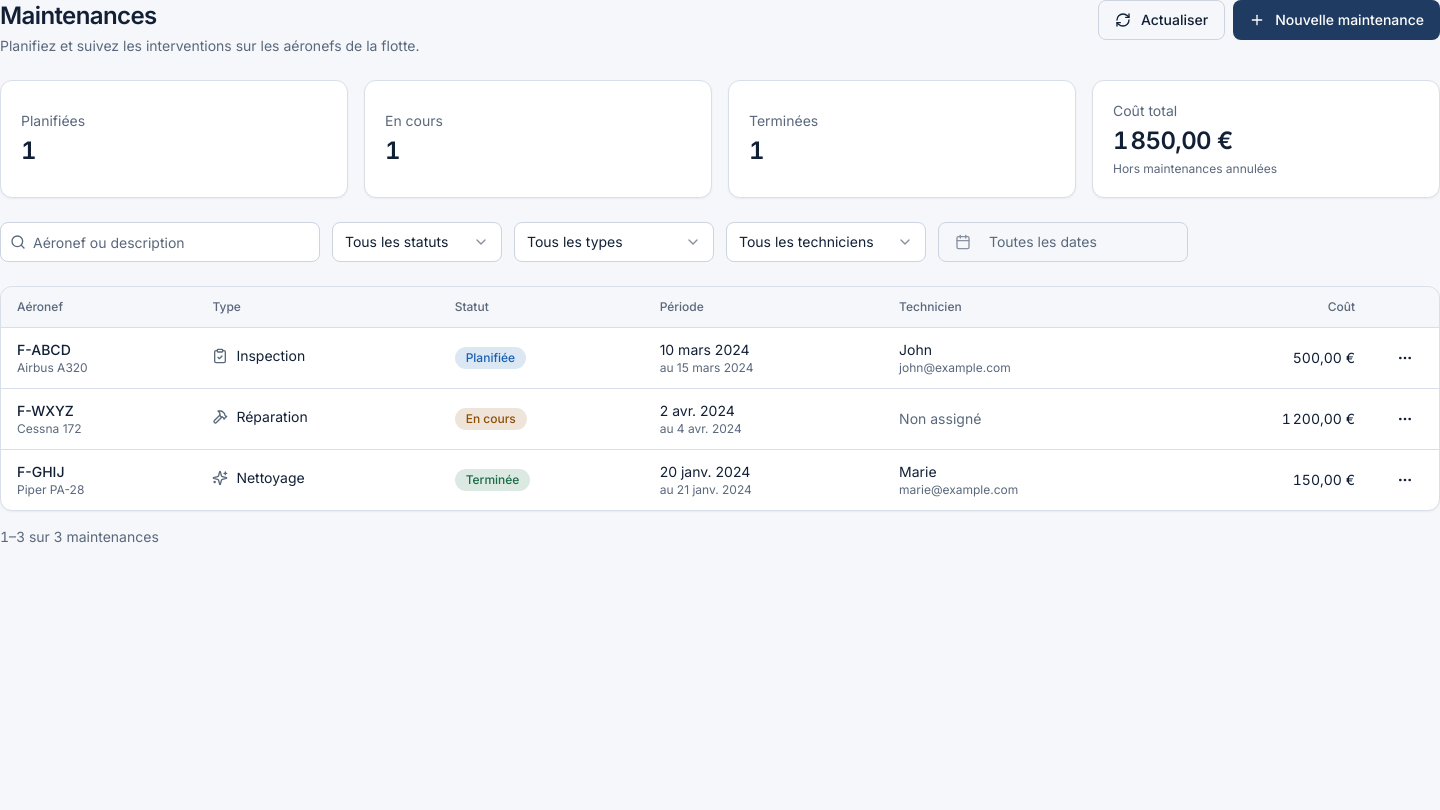
Test case: MaintenanceTablePage › doit ouvrir le détail de la maintenance en cliquant sur sa ligne
Expected: the text "F-ABCD" is shown, top-left (17, 340), bottom-right (71, 358)
Click the text "Airbus A320" at point(52, 367), box top-left (17, 360), bottom-right (88, 374)
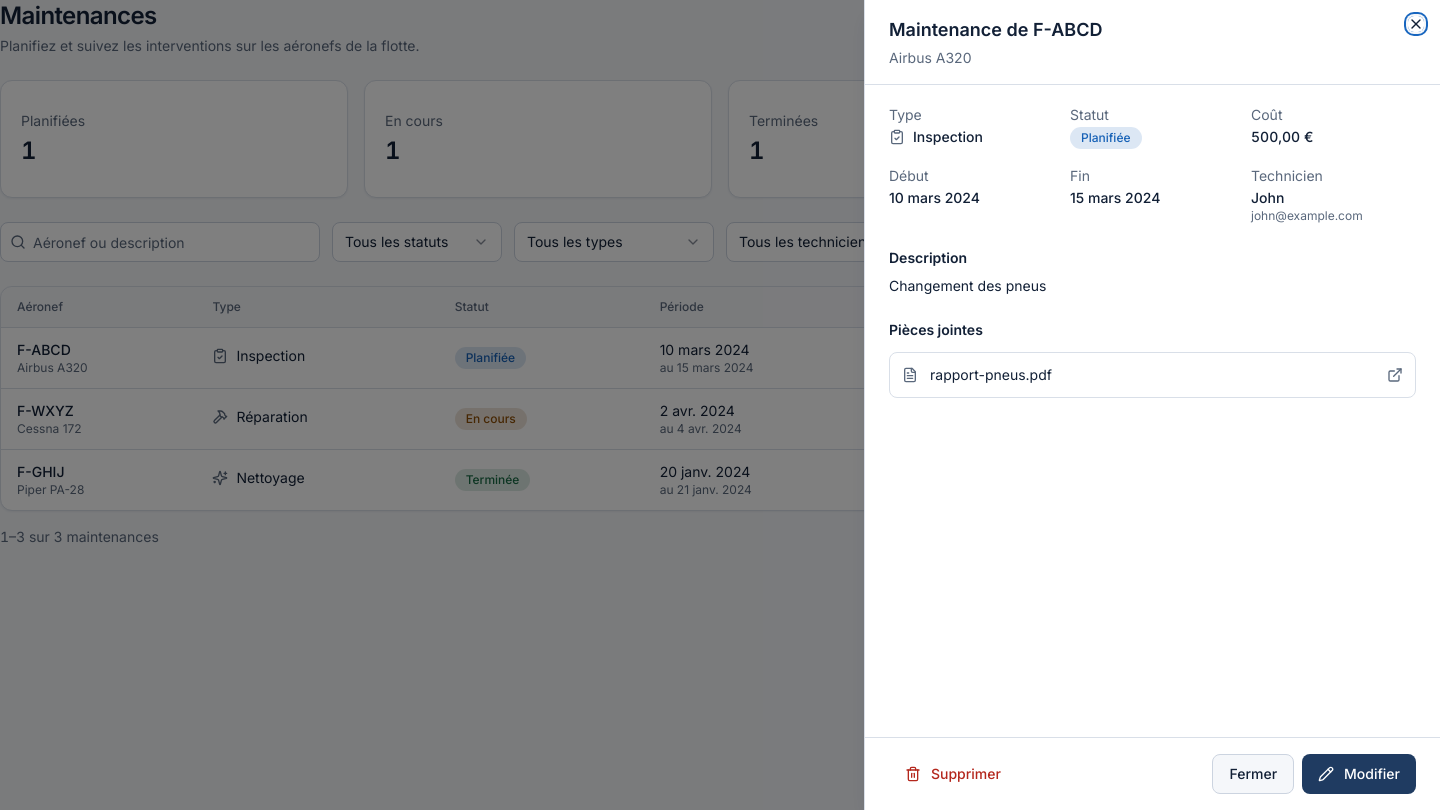
Now the text "Airbus A320" is shown, box top-left (889, 49), bottom-right (972, 66)
Now the text "Inspection" is shown, box top-left (889, 127), bottom-right (983, 147)
Now the text "Planifiée" is shown, box top-left (1070, 127), bottom-right (1142, 149)
Click the button "Fermer" at point(1253, 774), box top-left (1212, 754), bottom-right (1294, 794)
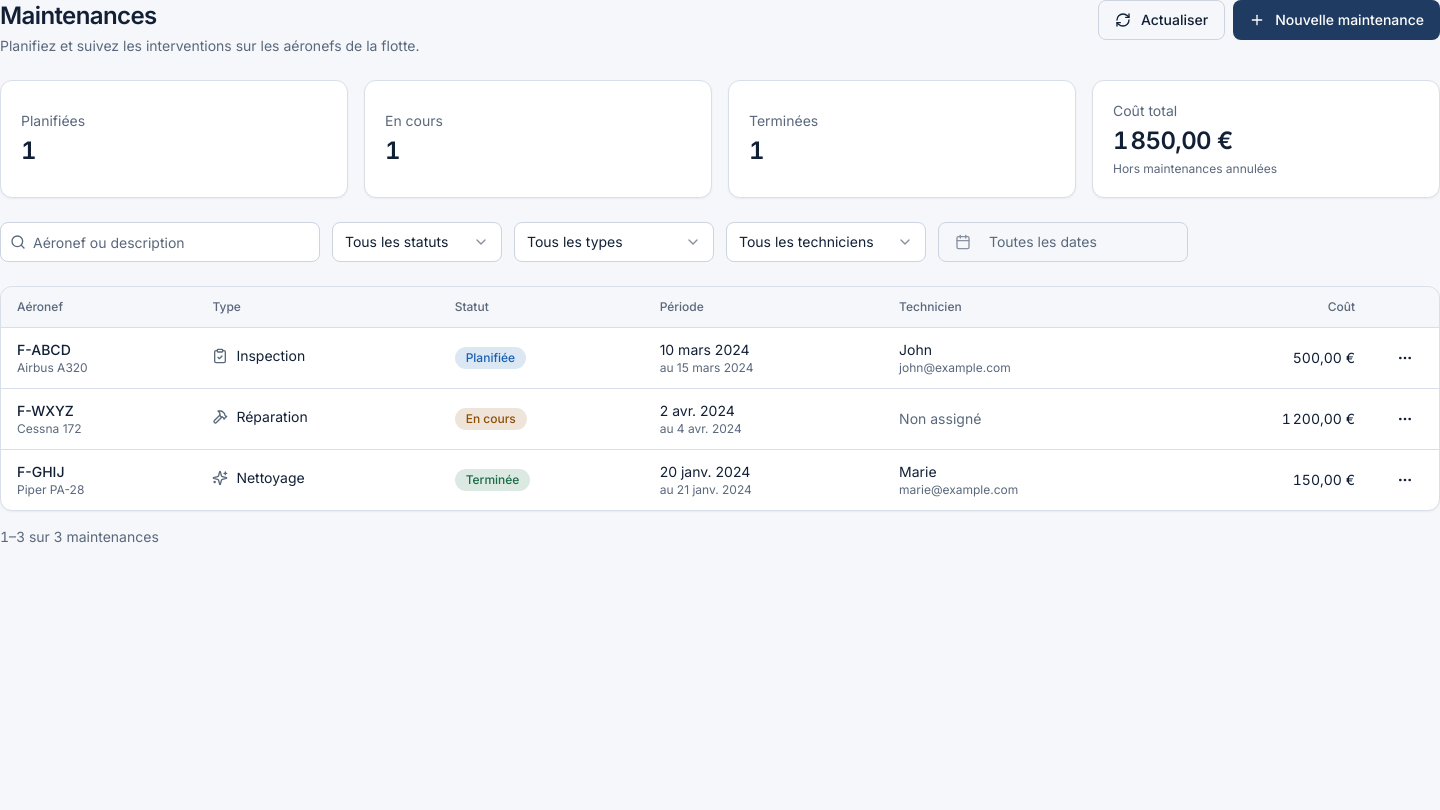
Now the dialog is gone
